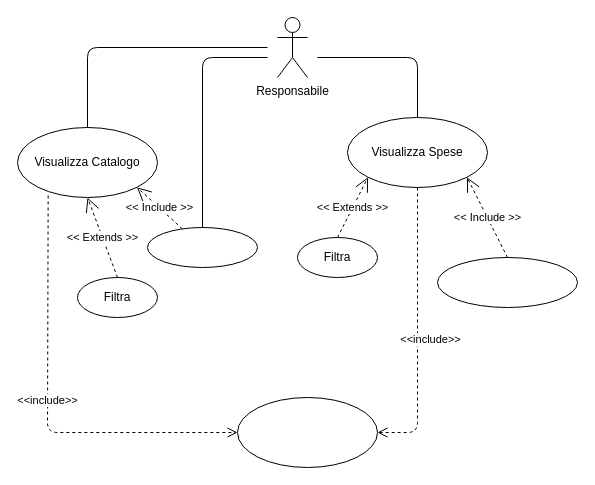
The diagram is 595 pixels wide and 485 high, and some of its shapes have lost their labels. Each missing label, with the box of its shape:
Aggiungi quantità: (146, 226, 258, 268)
Autenticazione: (236, 396, 378, 468)
Modifica Stato: (436, 256, 578, 308)
